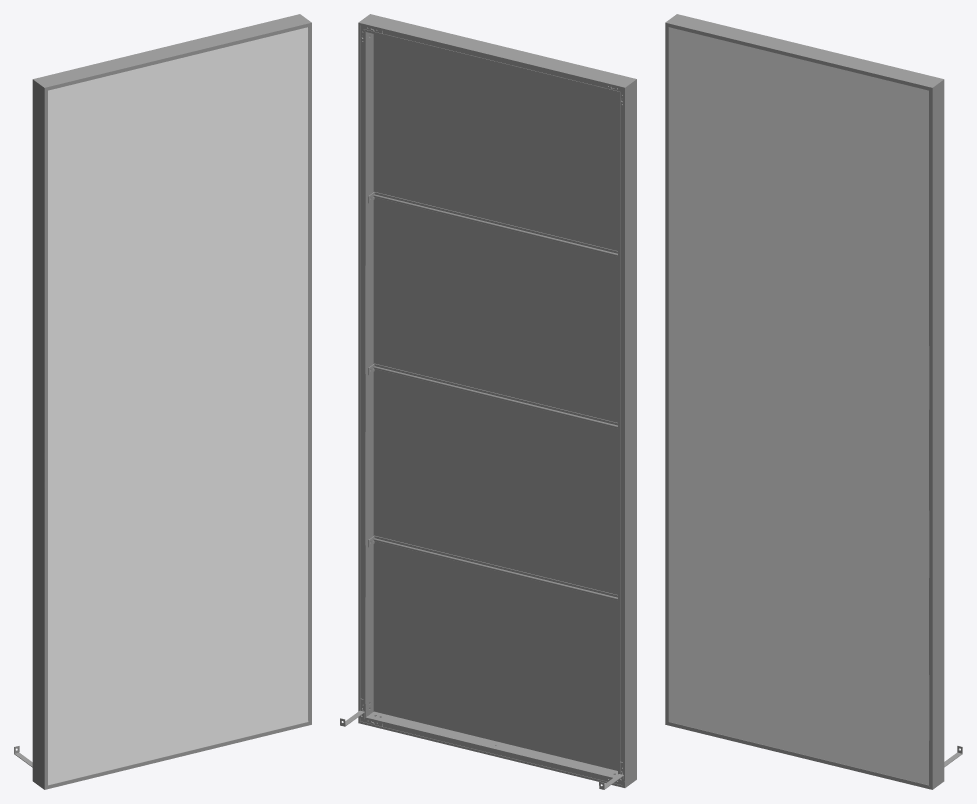
File: 04 - HOVET Mirror - aluminium 78x196 cm.glb
3 views of the same model, side by side, from view 1: azimuth 30°, elevation 25°; view 2: azimuth 150°, elevation 25°; view 3: azimuth 330°, elevation 25° (orthographic).
Visible parts, largest first — view 1: Mesh_0; view 2: Mesh_0; view 3: Mesh_0.
Part boxes in pixels (x1=…): Mesh_0: x1=14, y1=14, x2=311, y2=789; Mesh_0: x1=340, y1=14, x2=636, y2=789; Mesh_0: x1=665, y1=14, x2=962, y2=789.
Size of the model in its own units: 0.7816 by 1.96 by 0.16.
Materials: 1 (1 with a texture image).
